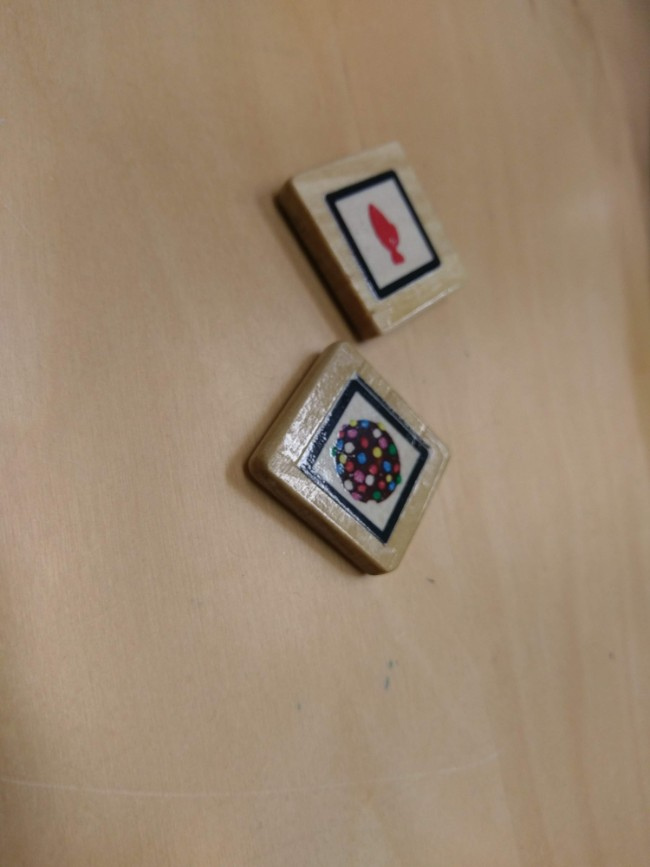cookie: (298, 375, 432, 542)
